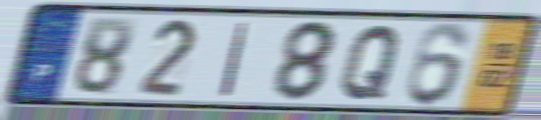2: (135, 17, 199, 99)
6: (403, 19, 472, 110)
8: (269, 18, 338, 104), (71, 14, 137, 98)
I: (216, 20, 253, 99)
Q: (337, 23, 405, 103)
